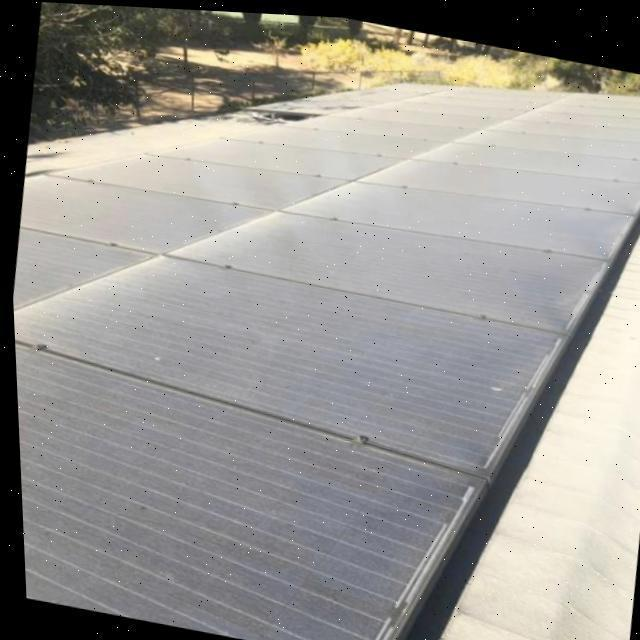Surface Contaminant: (12, 340, 481, 640), (11, 252, 570, 467), (152, 205, 612, 330), (273, 178, 635, 252), (18, 171, 276, 254), (50, 151, 351, 206), (357, 153, 640, 207), (10, 228, 153, 307), (149, 137, 395, 178), (411, 135, 640, 177), (209, 121, 445, 157)
